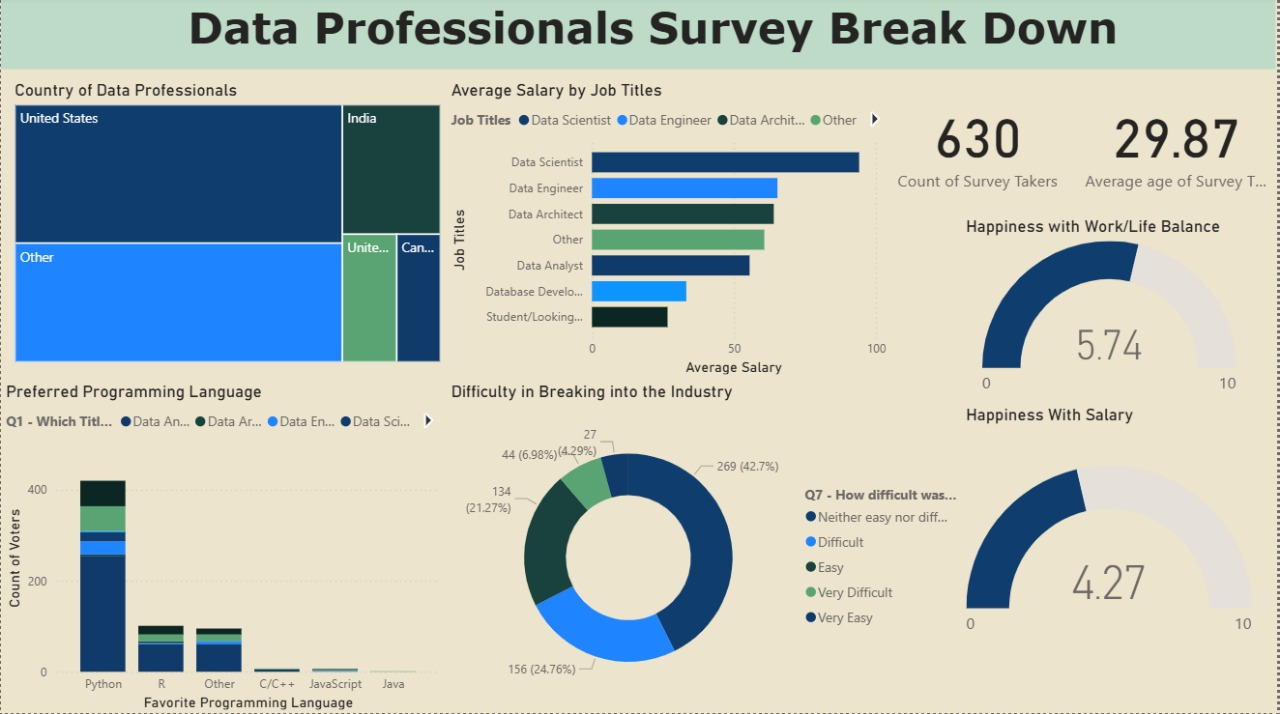

Layout of this report page (visuals, bound fields, positions):
{"tool":"powerbi","page":{"name":"Page 1","canvas":[1280,720],"ordinal":0},"visuals":[{"type":"textbox","box":[0,0,1279.4,73.5],"z":0},{"type":"card","fields":{"Values":["CountNonNull(Data Professional Survey.Unique ID)"]},"box":[878.6,83.9,201.8,123.2],"z":1000},{"type":"card","fields":{"Values":["Avg(Data Professional Survey.Q10 - Current Age)"]},"box":[1080.4,83.9,198.2,123.2],"z":2000},{"type":"barChart","title":"Average Salary by Job Titles ","fields":{"Category":["Data Professional Survey.Q1 - Which Title Best Fits your Current Role?.1"],"Y":["Avg(Data Professional Survey.Average Salary)"],"Series":["Data Professional Survey.Q1 - Which Title Best Fits your Current Role?.1"]},"box":[446.1,84.8,446.1,300.5],"z":3000},{"type":"columnChart","title":"Preferred Programming Language","fields":{"Category":["Data Professional Survey.Q5 - Favorite Programming Language.1"],"Y":["CountNonNull(Data Professional Survey.Unique ID)"],"Series":["Data Professional Survey.Q1 - Which Title Best Fits your Current Role?.1"]},"box":[0,386.5,445.4,334],"z":4000},{"type":"treemap","title":"Country of Data Professionals","fields":{"Group":["Data Professional Survey.Q11 - Which Country do you live in?.1"],"Values":["CountNonNull(Data Professional Survey.Q11 - Which Country do you live in?.1)"]},"box":[9.2,84.8,436.9,287.6],"z":5000},{"type":"gauge","title":"Happiness with Work/Life Balance","fields":{"Y":["Avg(Data Professional Survey.Q6 - How Happy are you in your Current Position with the following? (Work/Life Balance))"],"MinValue":["Min(Data Professional Survey.Q6 - How Happy are you in your Current Position with the following? (Work/Life Balance))"],"MaxValue":["Max(Data Professional Survey.Q6 - How Happy are you in your Current Position with the following? (Work/Life Balance))"]},"box":[964.2,221.2,296.8,188],"z":6000},{"type":"gauge","title":"Happiness With Salary","fields":{"Y":["Avg(Data Professional Survey.Q6 - How Happy are you in your Current Position with the following? (Salary))"],"MinValue":["Min(Data Professional Survey.Q6 - How Happy are you in your Current Position with the following? (Salary))"],"MaxValue":["Max(Data Professional Survey.Q6 - How Happy are you in your Current Position with the following? (Salary))"]},"box":[964.3,410.7,296.4,276.8],"z":7000},{"type":"donutChart","title":"Difficulty in Breaking into  the Industry","fields":{"Y":["CountNonNull(Data Professional Survey.Q1 - Which Title Best Fits your Current Role?.1)"],"Category":["Data Professional Survey.Q7 - How difficult was it for you to break into Data?"]},"box":[446.1,387.1,518,333.7],"z":8000}]}

Visuals, with their boxes in screenshot pixels (x1, y1, x2, y2), scaled from the page's 1280x720 canvas onto the 1280x714 screenshot:
textbox: x1=0 y1=0 x2=1279 y2=73
card - CountNonNull(Data Professional Survey.Unique ID): x1=879 y1=83 x2=1080 y2=205
card - Avg(Data Professional Survey.Q10 - Current Age): x1=1080 y1=83 x2=1279 y2=205
"Average Salary by Job Titles " barChart: x1=446 y1=84 x2=892 y2=382
"Preferred Programming Language" columnChart: x1=0 y1=383 x2=445 y2=713
"Country of Data Professionals" treemap: x1=9 y1=84 x2=446 y2=369
"Happiness with Work/Life Balance" gauge: x1=964 y1=219 x2=1261 y2=406
"Happiness With Salary" gauge: x1=964 y1=407 x2=1261 y2=682
"Difficulty in Breaking into  the Industry" donutChart: x1=446 y1=384 x2=964 y2=713
